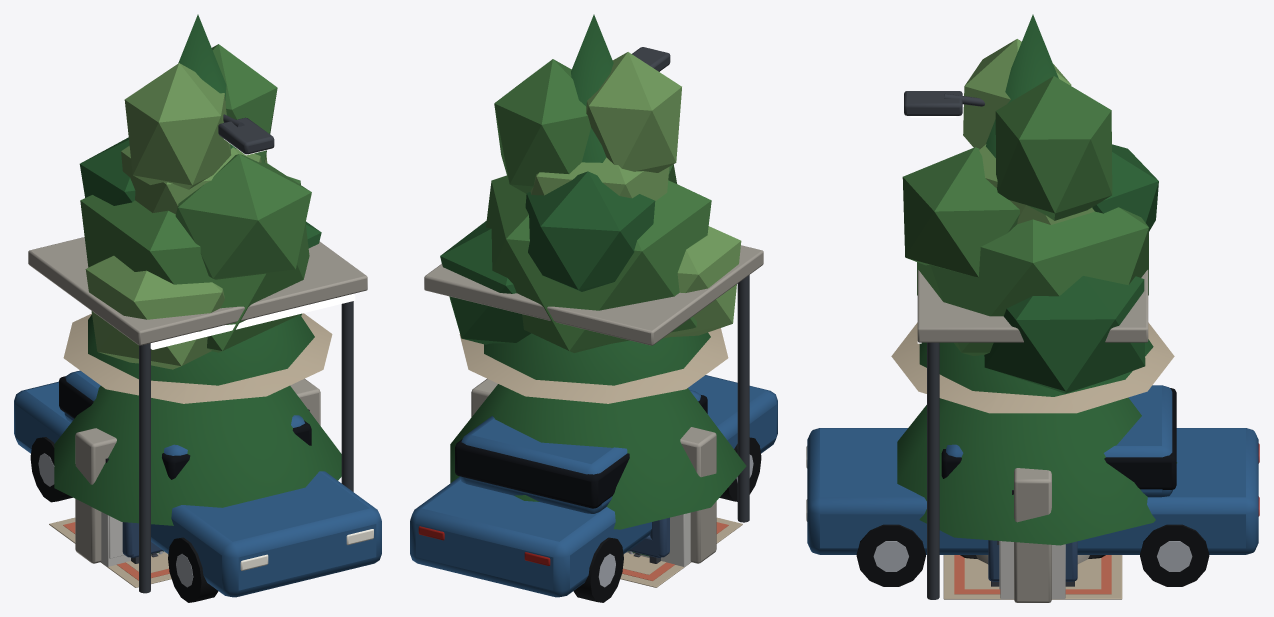
The model's file is props.glb.
3 renders of one model, left to right at view 1: azimuth 30°, elevation 25°; view 2: azimuth 150°, elevation 25°; view 3: azimuth 270°, elevation 25°, orthographic. The views are drawn at different scales.
Visible parts, largest first — view 1: tree_round, tree_conifer, car_blue, entrance_canopy, tree_birch, parasol, sign_monolith, street_lamp, rug, kitchen_counter, sofa; view 2: tree_round, car_blue, tree_conifer, tree_birch, entrance_canopy, parasol, sign_monolith, rug, kitchen_counter, sofa, street_lamp; view 3: tree_round, car_blue, tree_conifer, tree_birch, entrance_canopy, parasol, rug, sign_monolith, street_lamp, kitchen_counter, sofa.
Part boxes in pixels (x1=…): tree_round: x1=79, y1=137, x2=321, y2=369; tree_conifer: x1=54, y1=14, x2=341, y2=525; car_blue: x1=14, y1=370, x2=381, y2=602; entrance_canopy: x1=28, y1=237, x2=367, y2=593; tree_birch: x1=121, y1=44, x2=277, y2=214; parasol: x1=63, y1=313, x2=332, y2=403; sign_monolith: x1=75, y1=378, x2=320, y2=563; street_lamp: x1=218, y1=114, x2=274, y2=155; rug: x1=49, y1=517, x2=171, y2=587; kitchen_counter: x1=101, y1=512, x2=165, y2=566; sofa: x1=122, y1=522, x2=162, y2=557; tree_round: x1=440, y1=164, x2=741, y2=352; car_blue: x1=410, y1=375, x2=777, y2=602; tree_conifer: x1=450, y1=14, x2=746, y2=529; tree_birch: x1=494, y1=52, x2=681, y2=200; entrance_canopy: x1=424, y1=245, x2=763, y2=522; parasol: x1=459, y1=328, x2=728, y2=403; sign_monolith: x1=471, y1=378, x2=716, y2=563; rug: x1=620, y1=517, x2=742, y2=587; kitchen_counter: x1=626, y1=512, x2=690, y2=566; sofa: x1=629, y1=517, x2=669, y2=557; street_lamp: x1=632, y1=47, x2=670, y2=71; tree_round: x1=902, y1=144, x2=1158, y2=393; car_blue: x1=806, y1=385, x2=1259, y2=586; tree_conifer: x1=897, y1=14, x2=1177, y2=545; tree_birch: x1=963, y1=39, x2=1112, y2=224; entrance_canopy: x1=917, y1=270, x2=1148, y2=599; parasol: x1=891, y1=322, x2=1174, y2=413; rug: x1=943, y1=555, x2=1122, y2=599; sign_monolith: x1=1012, y1=468, x2=1051, y2=602; street_lamp: x1=904, y1=91, x2=984, y2=117; kitchen_counter: x1=997, y1=541, x2=1065, y2=598; sofa: x1=988, y1=540, x2=1077, y2=581.
Size of the model in its own units: 2.95 by 6.01 by 4.32.
